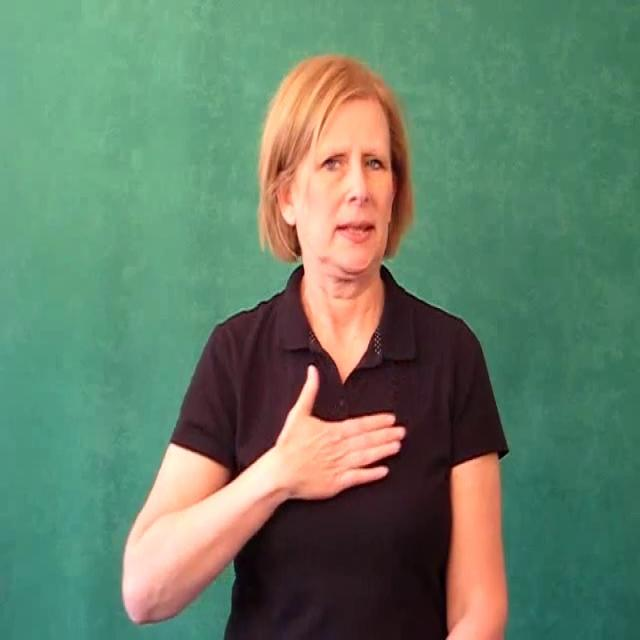please: (274, 362, 405, 500)
